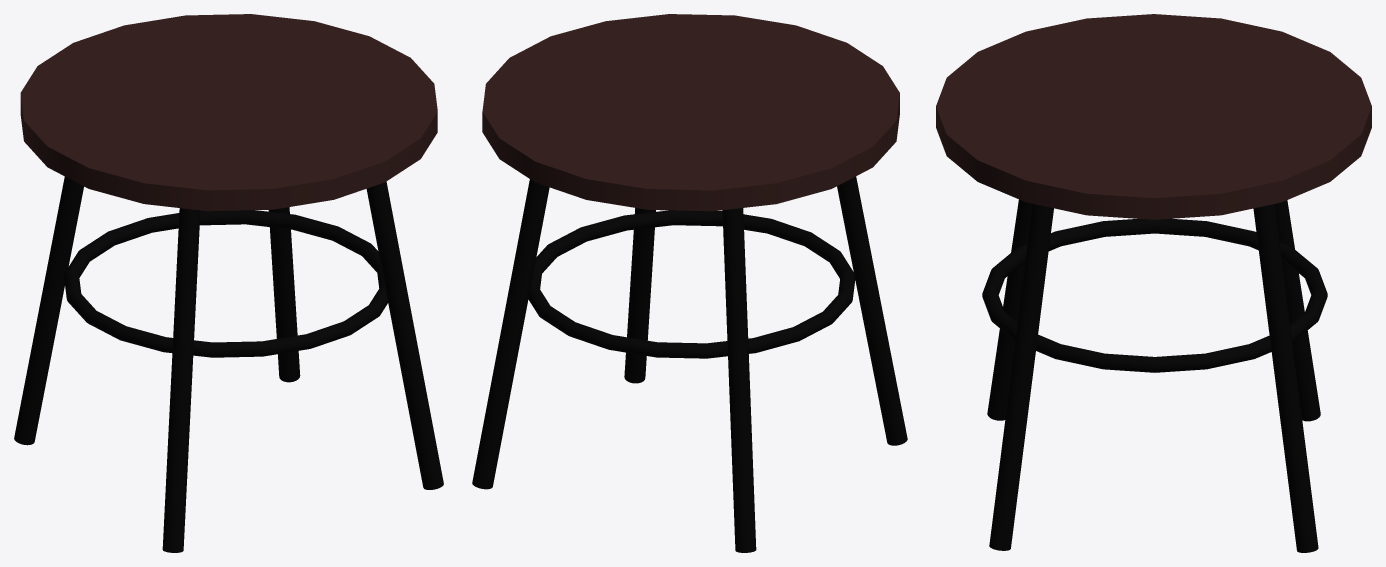
The model's file is stool.fbx.
The picture shows the model from 3 angles, left to right: view 1: azimuth 30°, elevation 25°; view 2: azimuth 150°, elevation 25°; view 3: azimuth 270°, elevation 25°; orthographic projection. The views are drawn at different scales.
Visible parts, largest first — view 1: pCylinder11; view 2: pCylinder11; view 3: pCylinder11.
Boxes of the visible parts, bbox=[...] form: pCylinder11: bbox=[14, 14, 443, 552]; pCylinder11: bbox=[472, 14, 907, 552]; pCylinder11: bbox=[936, 14, 1371, 552].
Size of the model in its own units: 22.75 by 21.71 by 22.75.
